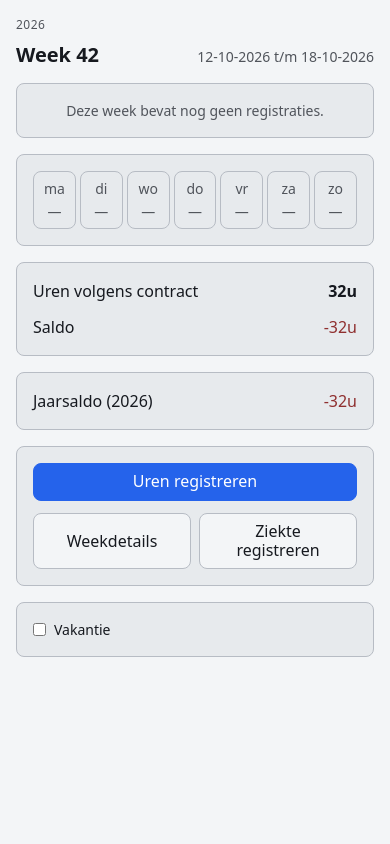
Test: DashboardPage › toont een Nederlandse foutmelding bij ongeldige ziekte-uren
Click the button "Ziekte registreren": (278,541) [199, 513, 357, 569]
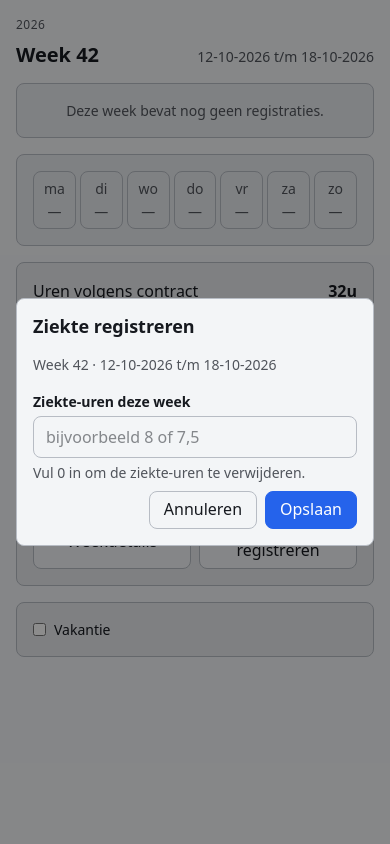
In the field with id "sickness-hours": (195,437) [33, 416, 357, 458], type "veel"
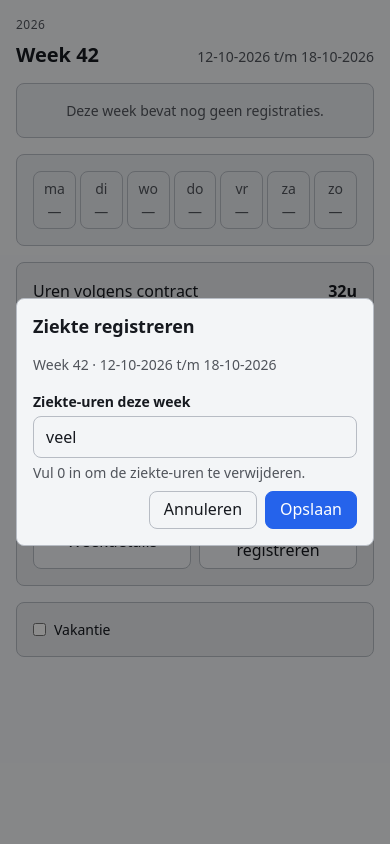
Submit the form, box [33, 391, 357, 529]
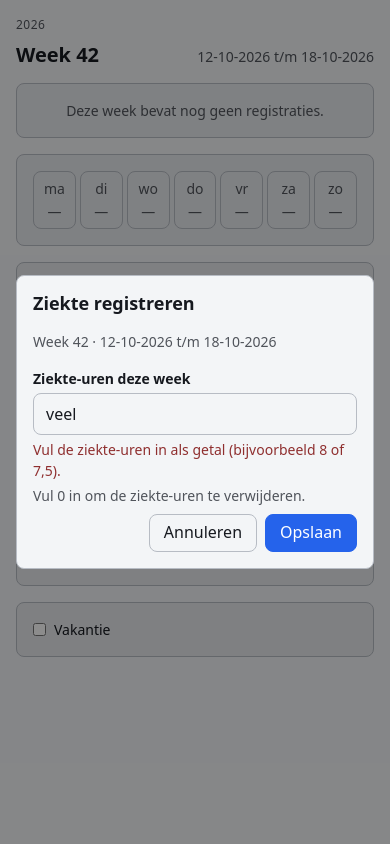
Expected: the text "Vul de ziekte-uren in als getal" is shown, [33, 440, 344, 480]
